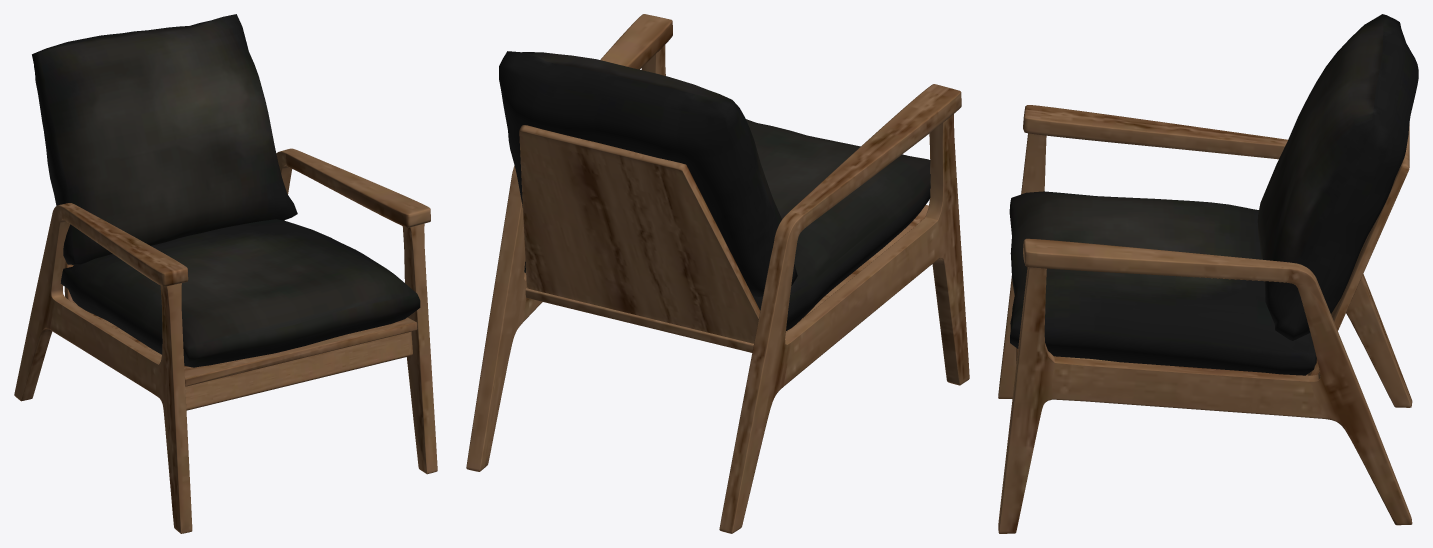
The model's file is armchair_wood.glb.
The picture shows the model from 3 angles, left to right: view 1: azimuth 30°, elevation 25°; view 2: azimuth 150°, elevation 25°; view 3: azimuth 270°, elevation 25°; orthographic projection. The views are drawn at different scales.
Parts seen in each view (by area): view 1: modern_arm_chair_01; view 2: modern_arm_chair_01; view 3: modern_arm_chair_01.
Part boxes in pixels (left/top/right/bottom): modern_arm_chair_01: left=14, top=14, right=437, bottom=533; modern_arm_chair_01: left=466, top=14, right=969, bottom=533; modern_arm_chair_01: left=998, top=14, right=1418, bottom=533.
Size of the model in its own units: 0.8203 by 1.02 by 0.9865.
Materials: 2 (2 with a texture image).
